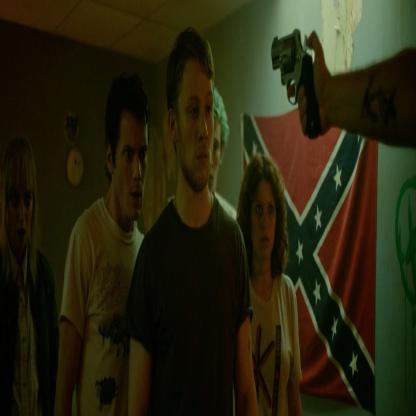gun: (272, 25, 329, 137)
